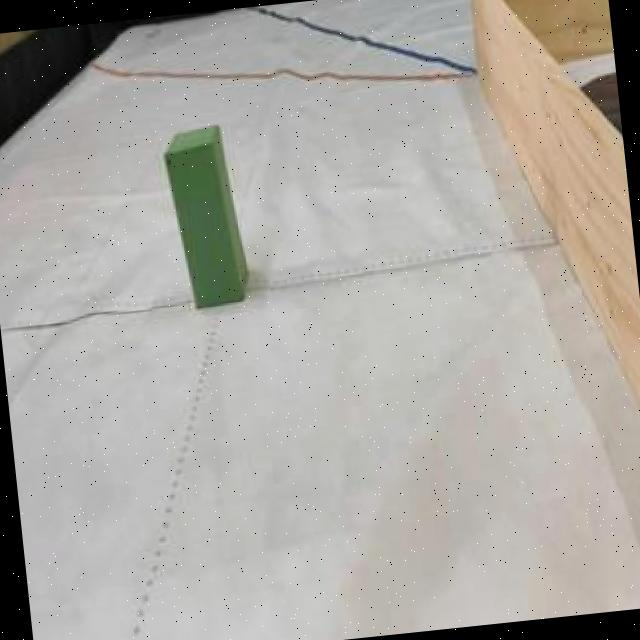greenbox: (162, 128, 248, 310)
